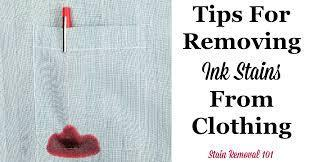ink: (46, 129, 101, 156)
